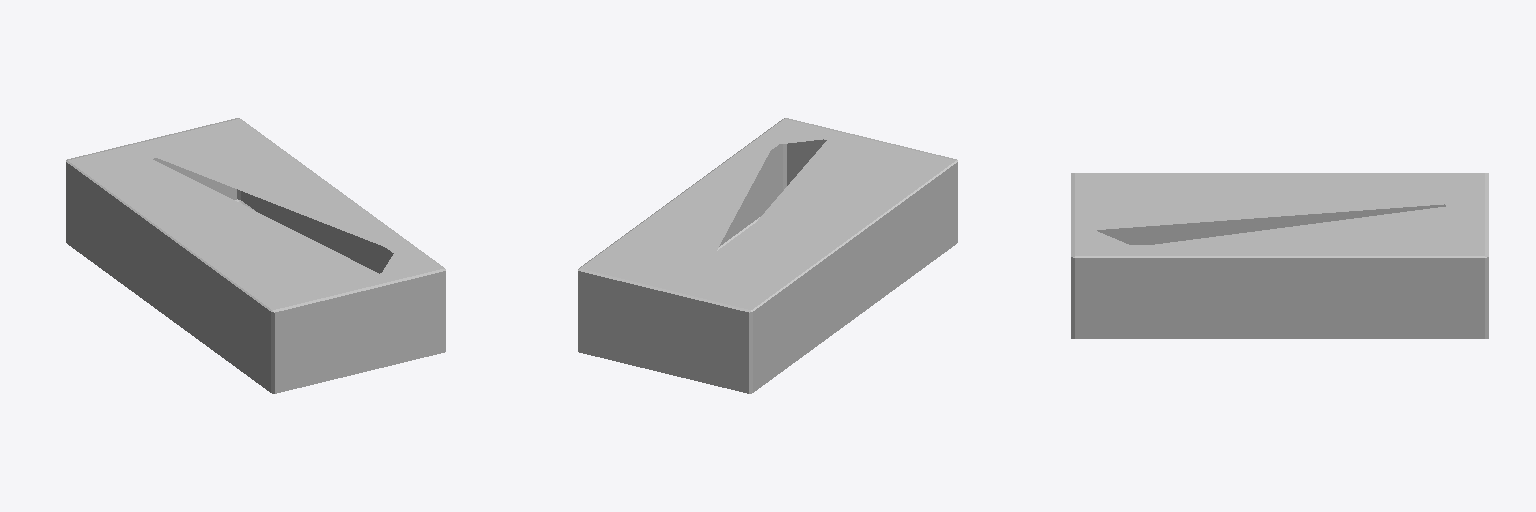
The model's file is bathtubown.obj.
The picture shows the model from 3 angles: view 1: azimuth 30°, elevation 25°; view 2: azimuth 150°, elevation 25°; view 3: azimuth 270°, elevation 25°; orthographic projection.
Visible parts, largest first — view 1: Cube_Cube.003; view 2: Cube_Cube.003; view 3: Cube_Cube.003.
Boxes of the visible parts, x1,y1,x2,y2 form: Cube_Cube.003: [66, 118, 445, 393]; Cube_Cube.003: [578, 118, 957, 393]; Cube_Cube.003: [1071, 173, 1488, 338].
Size of the model in its own units: 33.94 by 15.37 by 70.11.